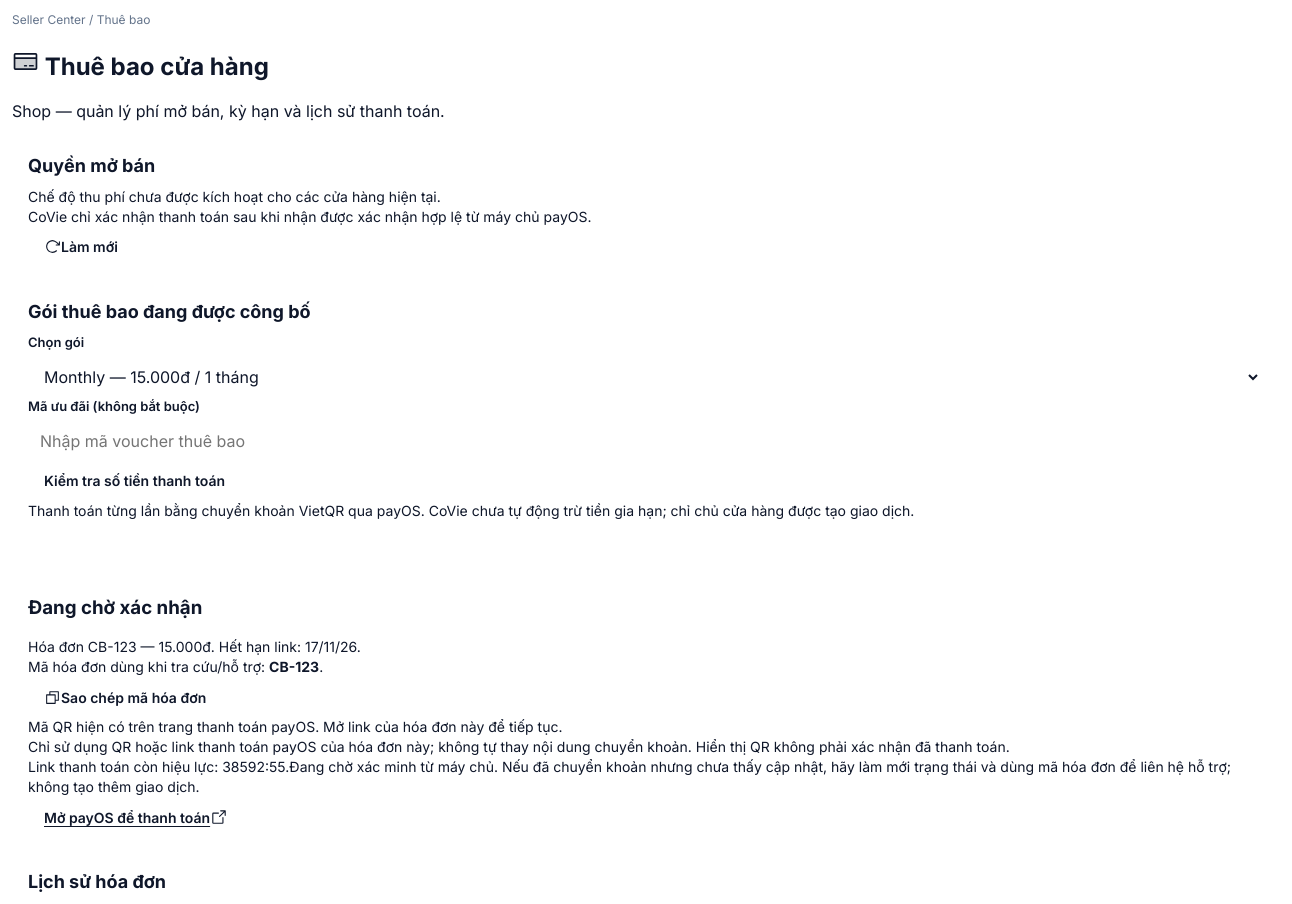
Test case: shows a failed manual status refresh and safely retries without another checkout
Expected: the link "Mở payOS để thanh toán" is shown, [28, 797, 244, 837]
Click the button with aria-label "Tải lại trạng thái thanh toán": (81, 247) [28, 227, 134, 267]
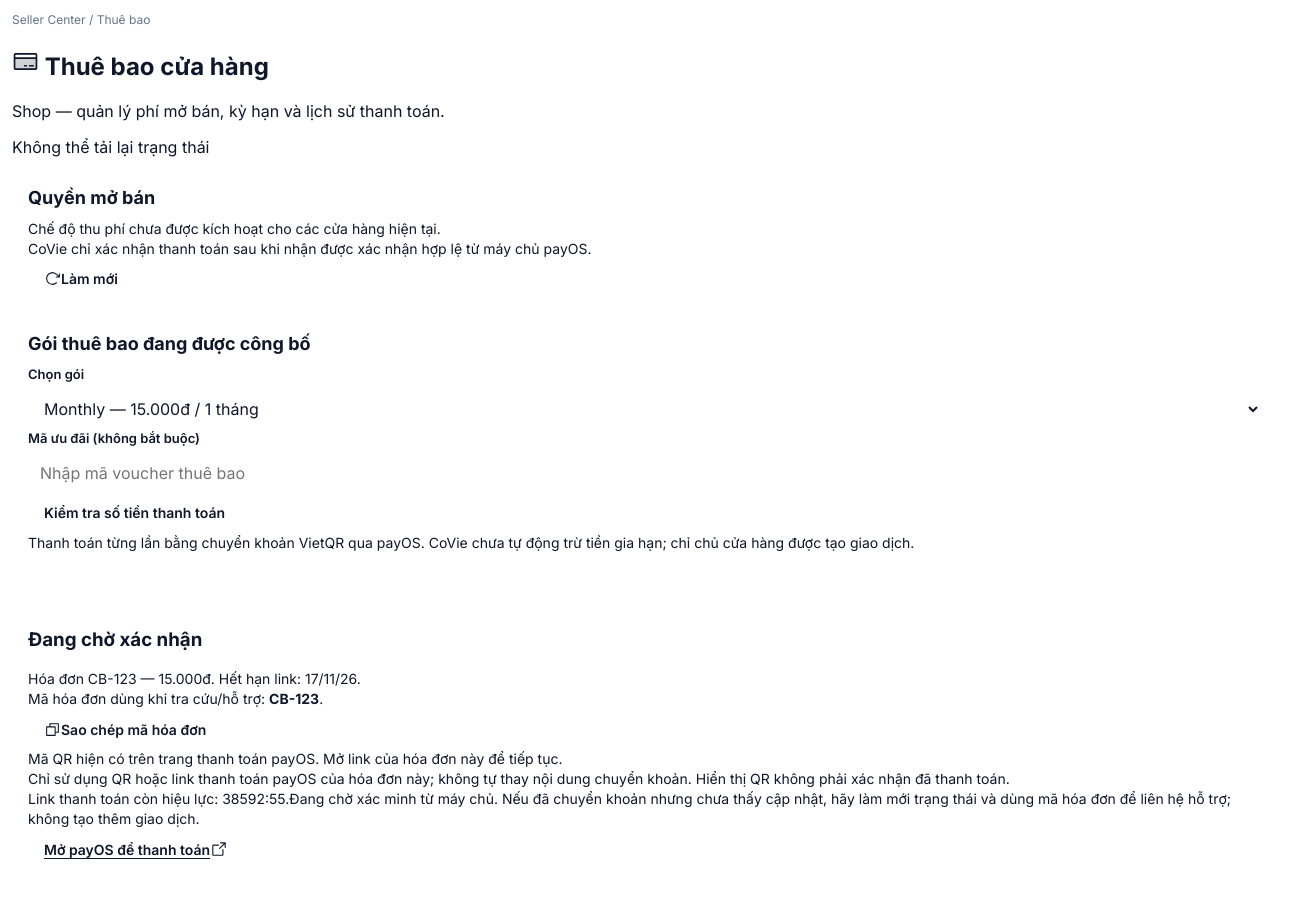
Expected: the link "Mở payOS để thanh toán" is shown, [28, 829, 244, 869]
Now the message "Không thể tải lại trạng thái" is shown, box [12, 137, 210, 157]
Click the button with aria-label "Tải lại trạng thái thanh toán": (81, 279) [28, 259, 134, 299]
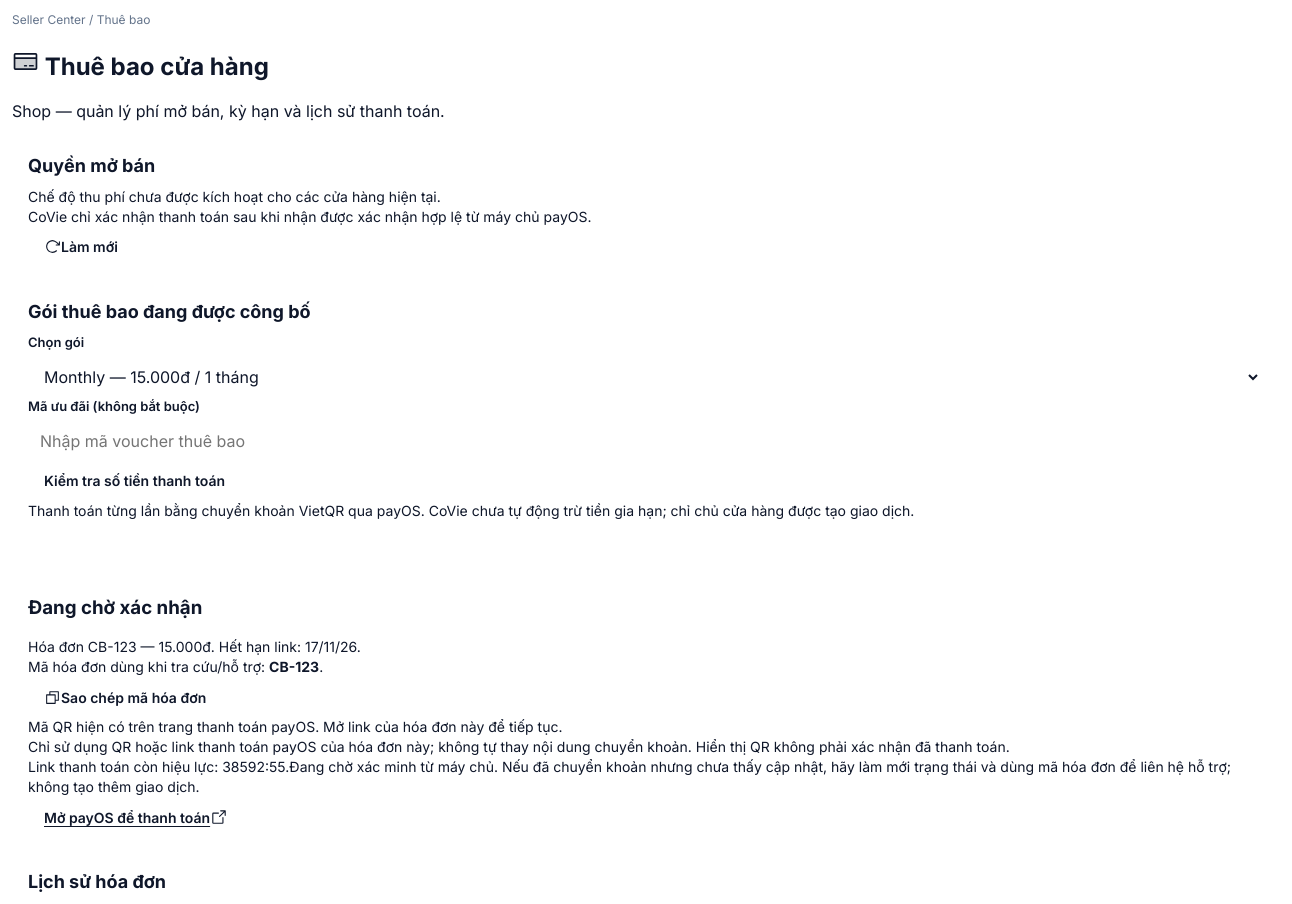
Expected: the button "Tạo link thanh toán payOS" is disabled, [28, 521, 237, 561]
Now the message "Không thể tải lại trạng thái" is gone
